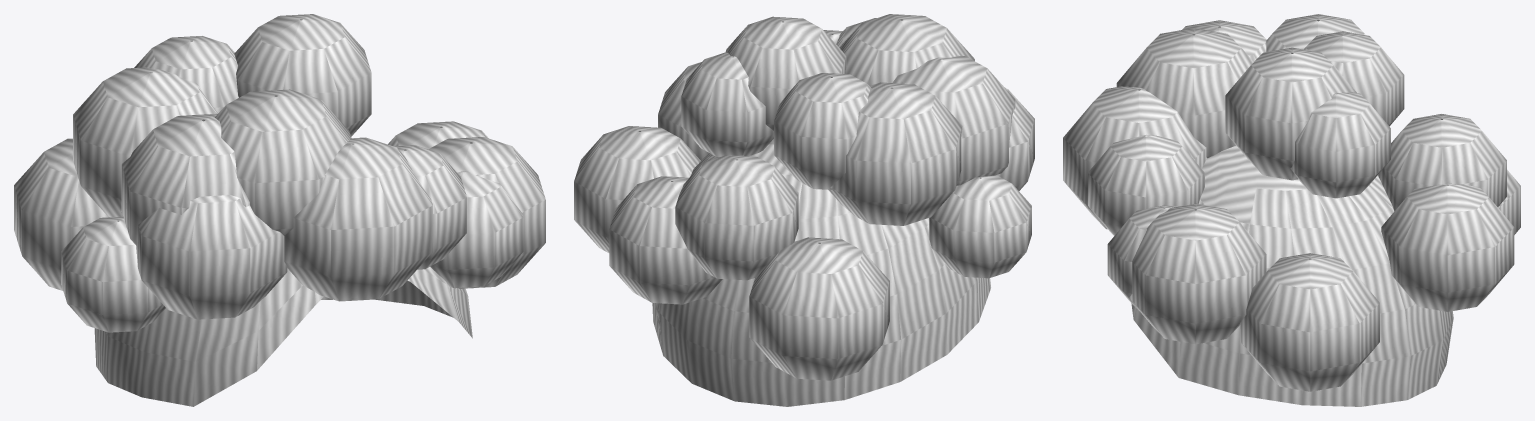
Rendered from hair_curly.glb.
The picture shows the model from 3 angles, left to right: view 1: azimuth 30°, elevation 25°; view 2: azimuth 150°, elevation 25°; view 3: azimuth 270°, elevation 25°; orthographic projection. The views are drawn at different scales.
Parts seen in each view (by area): view 1: hair_curly; view 2: hair_curly; view 3: hair_curly.
Boxes of the visible parts, box(x1,y1,x2,y2) form: hair_curly: box(14, 14, 545, 406); hair_curly: box(574, 14, 1034, 406); hair_curly: box(1063, 14, 1520, 406).
Size of the model in its own units: 0.392 by 0.2831 by 0.3621.
Materials: 1 (1 with a texture image).
